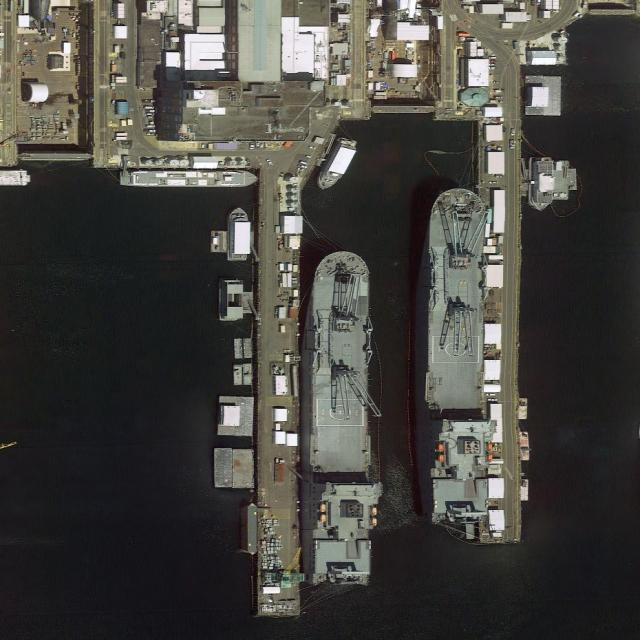Dock: (257, 167, 301, 615), (477, 120, 523, 544)
Other Ship: (313, 132, 360, 198), (225, 204, 253, 264), (529, 152, 557, 211)
RoRo: (298, 248, 383, 584), (421, 188, 488, 541)
